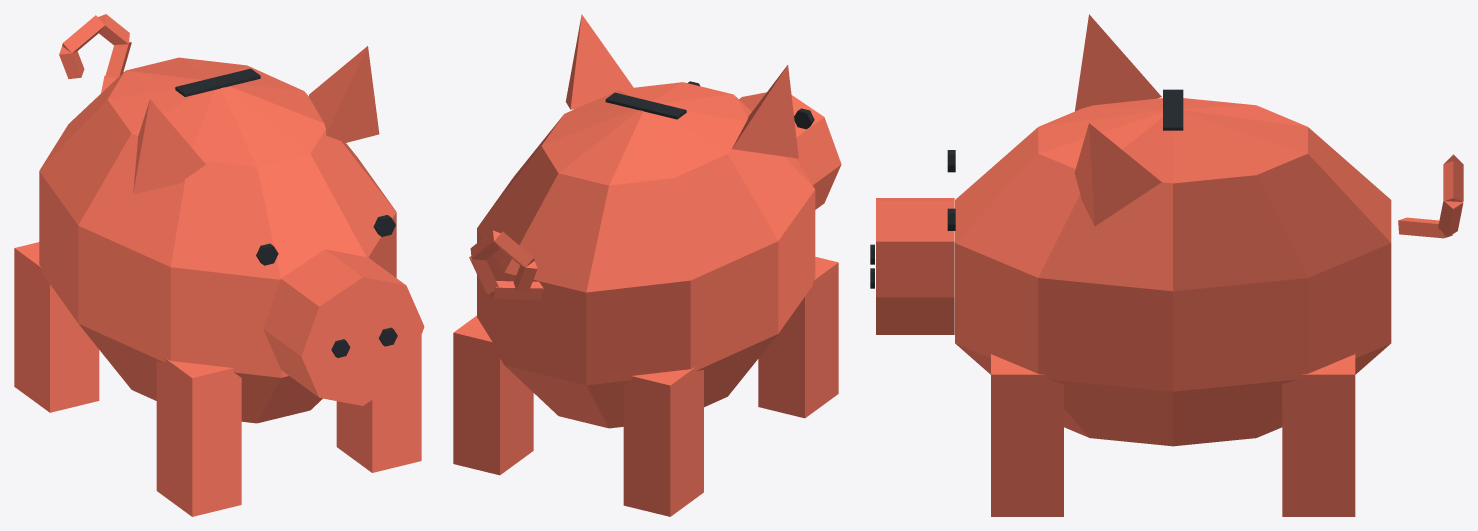
Rendered from 16-piggy-bank.glb.
3 views of the same model, side by side, from view 1: azimuth 30°, elevation 25°; view 2: azimuth 150°, elevation 25°; view 3: azimuth 270°, elevation 25° (orthographic). The views are drawn at different scales.
Parts seen in each view (by area): view 1: 16-piggy-bank__PigBody, 16-piggy-bank__Snout, 16-piggy-bank__Foot_-0.1_-0.1, 16-piggy-bank__Foot_-0.1_0.1, 16-piggy-bank__Foot_0.1_-0.1, 16-piggy-bank__Ear_1, 16-piggy-bank__Ear_0, 16-piggy-bank__CoinSlot, 16-piggy-bank__CurlyTail_3, 16-piggy-bank__CurlyTail_2, 16-piggy-bank__CurlyTail_1, 16-piggy-bank__CurlyTail_4; view 2: 16-piggy-bank__PigBody, 16-piggy-bank__Foot_-0.1_0.1, 16-piggy-bank__Foot_0.1_0.1, 16-piggy-bank__Foot_-0.1_-0.1, 16-piggy-bank__Ear_0, 16-piggy-bank__Ear_1, 16-piggy-bank__Snout, 16-piggy-bank__CoinSlot, 16-piggy-bank__CurlyTail_0, 16-piggy-bank__CurlyTail_3, 16-piggy-bank__CurlyTail_2, 16-piggy-bank__CurlyTail_1 (+1 smaller); view 3: 16-piggy-bank__PigBody, 16-piggy-bank__Foot_0.1_0.1, 16-piggy-bank__Foot_0.1_-0.1, 16-piggy-bank__Snout, 16-piggy-bank__Ear_1, 16-piggy-bank__Ear_0, 16-piggy-bank__CoinSlot, 16-piggy-bank__CurlyTail_2, 16-piggy-bank__CurlyTail_0, 16-piggy-bank__CurlyTail_1.
Part boxes in pixels (bbox=[...]): 16-piggy-bank__PigBody: bbox=[39, 57, 396, 423]; 16-piggy-bank__Snout: bbox=[263, 249, 424, 405]; 16-piggy-bank__Foot_-0.1_-0.1: bbox=[156, 358, 241, 516]; 16-piggy-bank__Foot_-0.1_0.1: bbox=[14, 242, 99, 412]; 16-piggy-bank__Foot_0.1_-0.1: bbox=[336, 335, 421, 472]; 16-piggy-bank__Ear_1: bbox=[309, 46, 379, 143]; 16-piggy-bank__Ear_0: bbox=[133, 99, 205, 194]; 16-piggy-bank__CoinSlot: bbox=[175, 68, 260, 96]; 16-piggy-bank__CurlyTail_3: bbox=[62, 15, 104, 52]; 16-piggy-bank__CurlyTail_2: bbox=[98, 14, 129, 44]; 16-piggy-bank__CurlyTail_1: bbox=[105, 41, 131, 77]; 16-piggy-bank__CurlyTail_4: bbox=[59, 46, 84, 79]; 16-piggy-bank__PigBody: bbox=[477, 82, 815, 428]; 16-piggy-bank__Foot_-0.1_0.1: bbox=[623, 367, 703, 516]; 16-piggy-bank__Foot_0.1_0.1: bbox=[453, 315, 533, 475]; 16-piggy-bank__Foot_-0.1_-0.1: bbox=[758, 257, 838, 418]; 16-piggy-bank__Ear_0: bbox=[732, 65, 798, 158]; 16-piggy-bank__Ear_1: bbox=[565, 14, 633, 109]; 16-piggy-bank__Snout: bbox=[739, 92, 841, 209]; 16-piggy-bank__CoinSlot: bbox=[605, 92, 686, 119]; 16-piggy-bank__CurlyTail_0: bbox=[490, 281, 543, 299]; 16-piggy-bank__CurlyTail_3: bbox=[494, 231, 534, 267]; 16-piggy-bank__CurlyTail_2: bbox=[470, 230, 500, 260]; 16-piggy-bank__CurlyTail_1: bbox=[469, 256, 498, 294]; 16-piggy-bank__PigBody: bbox=[955, 98, 1391, 446]; 16-piggy-bank__Foot_0.1_0.1: bbox=[1282, 354, 1355, 516]; 16-piggy-bank__Foot_0.1_-0.1: bbox=[991, 354, 1063, 516]; 16-piggy-bank__Snout: bbox=[876, 198, 954, 334]; 16-piggy-bank__Ear_1: bbox=[1074, 123, 1161, 226]; 16-piggy-bank__Ear_0: bbox=[1075, 14, 1161, 111]; 16-piggy-bank__CoinSlot: bbox=[1163, 89, 1183, 130]; 16-piggy-bank__CurlyTail_2: bbox=[1443, 161, 1463, 201]; 16-piggy-bank__CurlyTail_0: bbox=[1398, 217, 1452, 238]; 16-piggy-bank__CurlyTail_1: bbox=[1438, 200, 1463, 237].
Bounding box in the file's own units: 0.2948 × 0.385 × 0.529.
